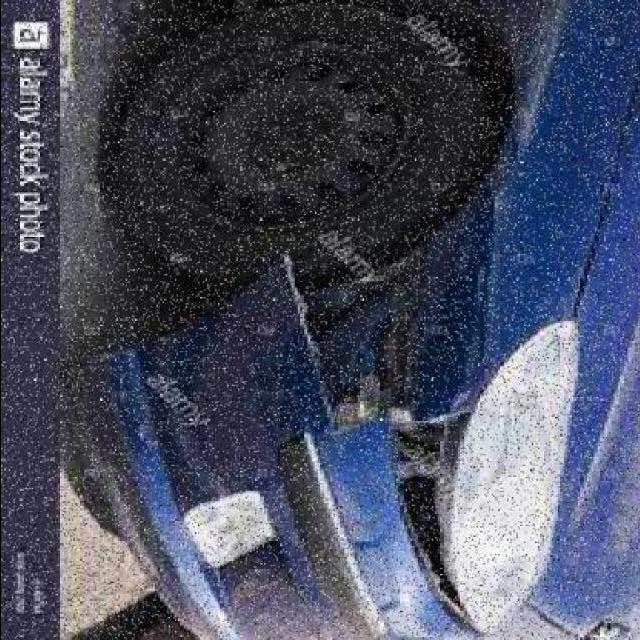front-bumper-dent: (96, 240, 506, 636)
